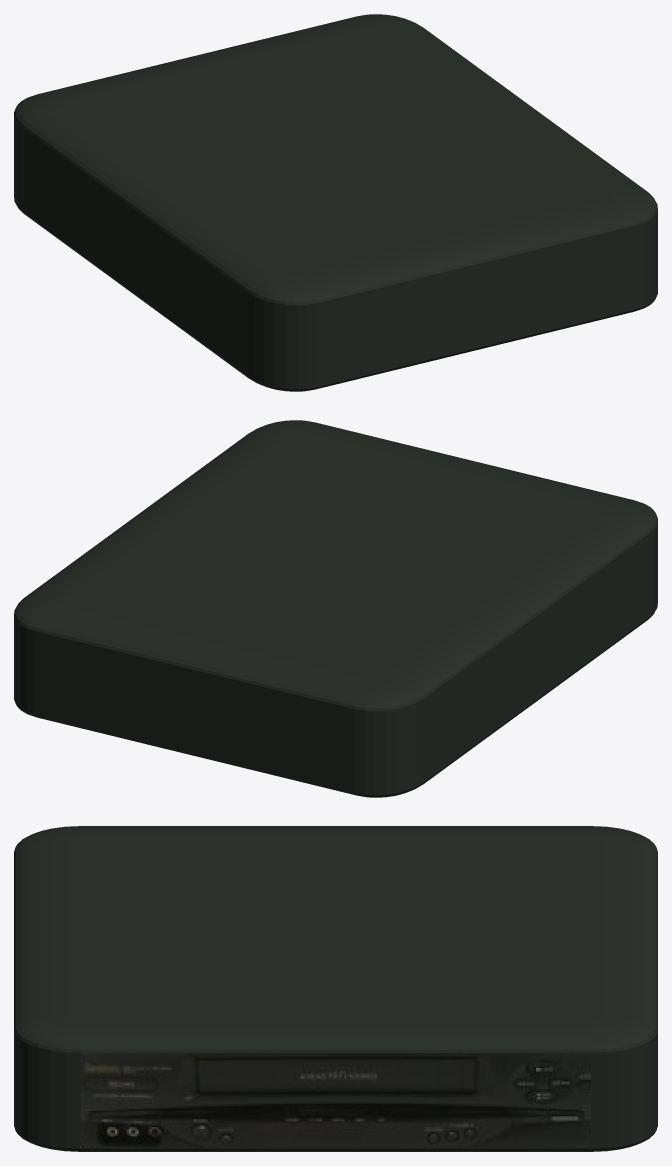
File: VCR.fbx
3 views of the same model, one above another, from view 1: azimuth 30°, elevation 25°; view 2: azimuth 150°, elevation 25°; view 3: azimuth 270°, elevation 25° (orthographic). The views are drawn at different scales.
Parts seen in each view (by area): view 1: Cube; view 2: Cube; view 3: Cube.
Boxes of the visible parts, x1=… form: Cube: x1=14, y1=14, x2=657, y2=391; Cube: x1=14, y1=420, x2=657, y2=797; Cube: x1=14, y1=826, x2=657, y2=1151.
Size of the model in its own units: 154 by 38.79 by 188.
